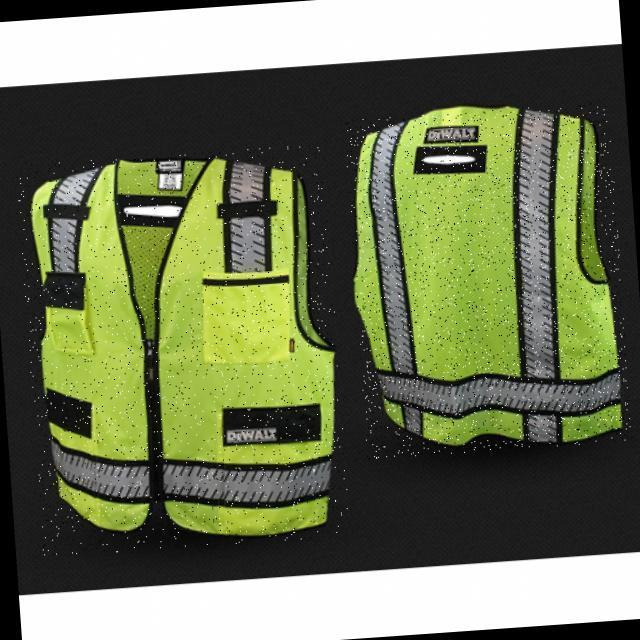vest: (16, 144, 351, 557), (343, 101, 632, 459)
